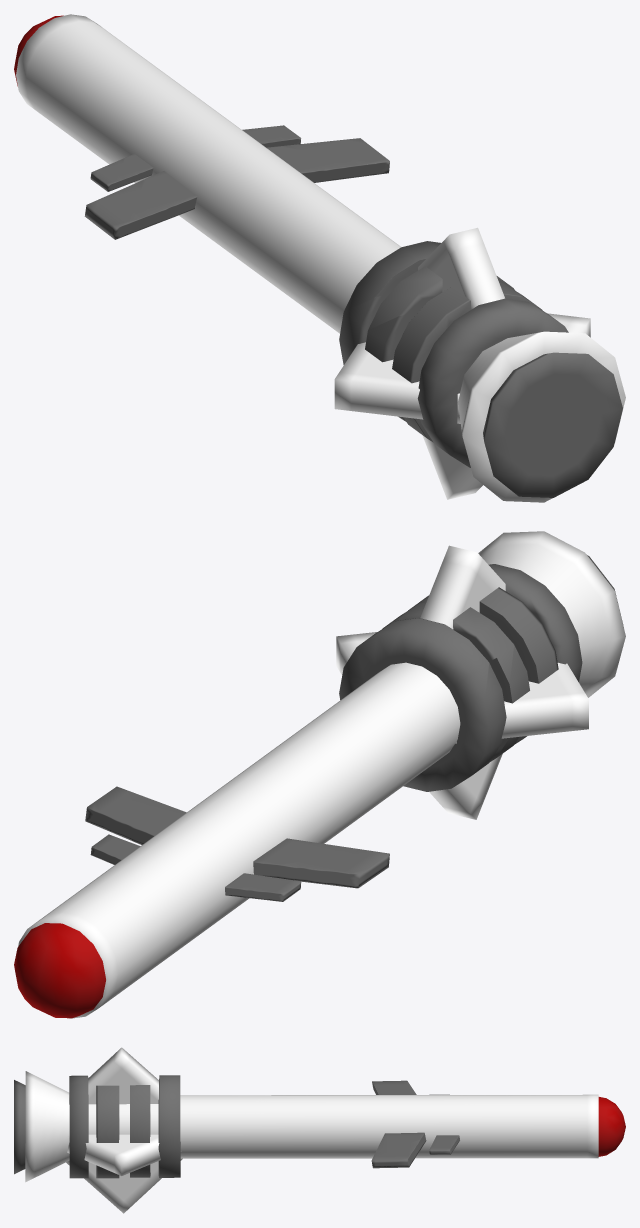
The model's file is missile thin.glb.
3 renders of one model, top to bottom at view 1: azimuth 30°, elevation 25°; view 2: azimuth 150°, elevation 25°; view 3: azimuth 270°, elevation 25°, orthographic. The views are drawn at different scales.
Visible parts, largest first — view 1: Cylinder (×5), Cone (×2), Box (×4); view 2: Cylinder (×5), Box (×4), Cone, Sphere; view 3: Cylinder (×5), Box (×4), Cone (×2), Sphere.
Boxes of the visible parts, x1,y1,x2,y2 form: Cylinder (×5): [16, 14, 568, 467]; Cone (×2): [458, 331, 625, 502]; Box (×4): [84, 125, 590, 499]; Cylinder (×5): [18, 564, 582, 1018]; Box (×4): [85, 545, 588, 901]; Cone: [478, 531, 625, 697]; Sphere: [14, 923, 105, 1018]; Cylinder (×5): [69, 1075, 598, 1178]; Box (×4): [66, 1047, 459, 1213]; Cone (×2): [14, 1071, 69, 1182]; Sphere: [598, 1097, 625, 1156].
Size of the model in its own units: 0.5461 by 0.5081 by 1.78.
